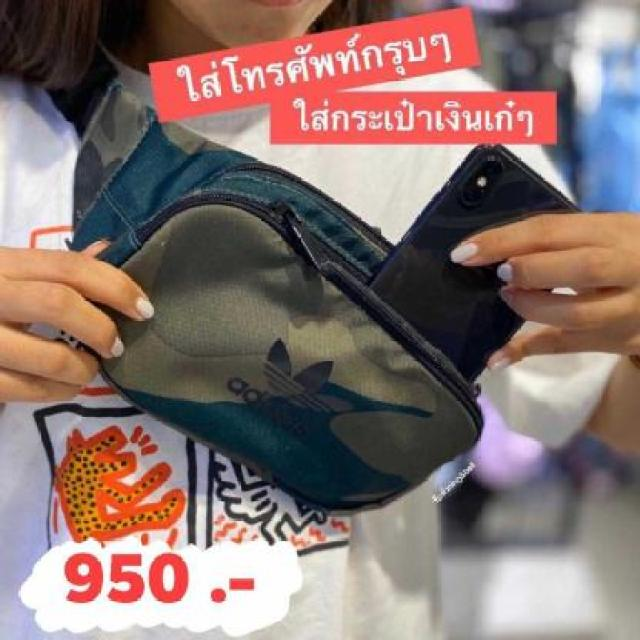Bag: (13, 31, 538, 524)
